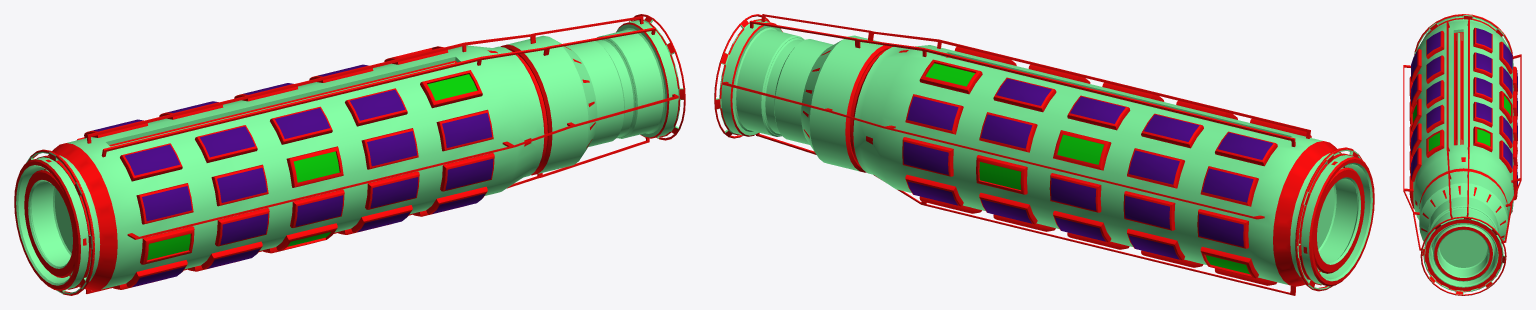
File: module2.obj
The picture shows the model from 3 angles, left to right: view 1: azimuth 30°, elevation 25°; view 2: azimuth 150°, elevation 25°; view 3: azimuth 270°, elevation 25°; orthographic projection. The views are drawn at different scales.
Parts seen in each view (by area): view 1: module2_2body, module2_Material.074, module2_Material.072, module2_Material.073; view 2: module2_2body, module2_Material.074, module2_Material.072, module2_Material.073; view 3: module2_2body, module2_Material.074, module2_Material.072, module2_Material.073.
Boxes of the visible parts, box(x1,y1,x2,y2) form: module2_2body: box(16, 19, 683, 294); module2_Material.074: box(14, 14, 685, 295); module2_Material.072: box(93, 64, 493, 287); module2_Material.073: box(147, 74, 477, 260); module2_2body: box(716, 19, 1372, 289); module2_Material.074: box(714, 14, 1374, 295); module2_Material.072: box(903, 78, 1272, 259); module2_Material.073: box(925, 63, 1249, 274); module2_2body: box(1413, 14, 1513, 294); module2_Material.074: box(1403, 14, 1521, 295); module2_Material.072: box(1411, 28, 1517, 186); module2_Material.073: box(1412, 96, 1510, 151).
Bounding box in the file's own units: 20 × 5 × 5.
